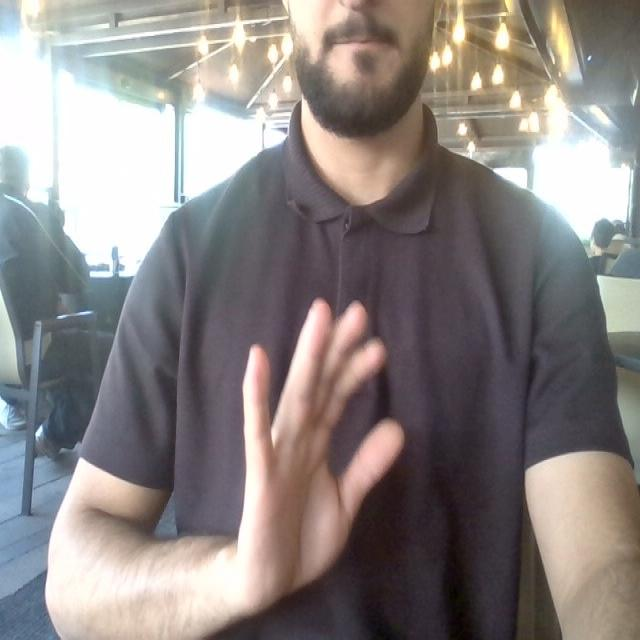Hand: (234, 300, 403, 610)
